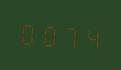four: (81, 21, 101, 52)
seven: (60, 20, 80, 51)
zero: (18, 17, 38, 48), (39, 18, 59, 49)
